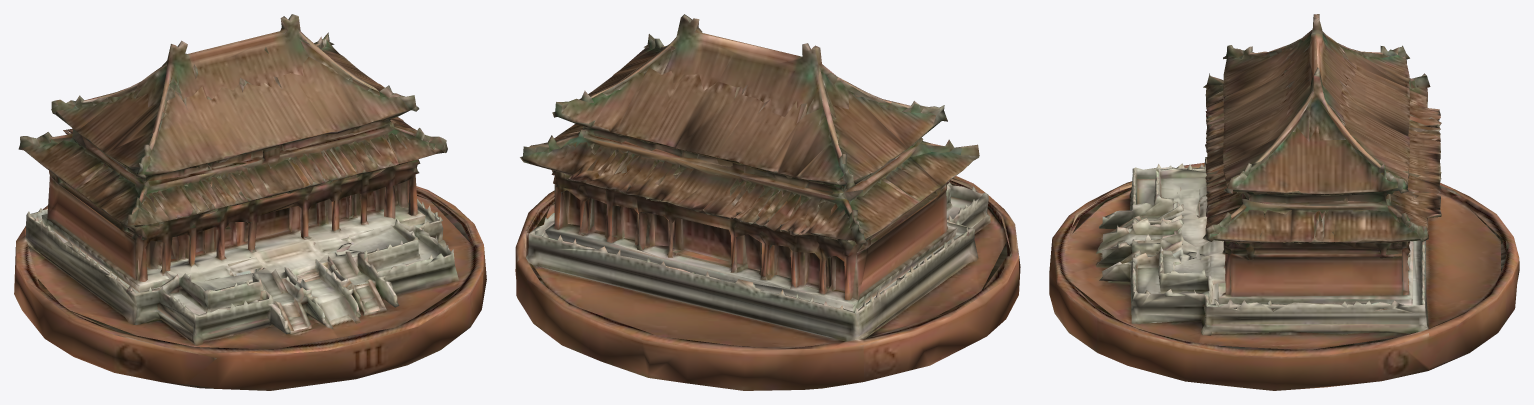
The model's file is forbidden_city_bronze.glb.
3 views of the same model, side by side, from view 1: azimuth 30°, elevation 25°; view 2: azimuth 150°, elevation 25°; view 3: azimuth 270°, elevation 25° (orthographic). The views are drawn at different scales.
Parts seen in each view (by area): view 1: Mesh_0; view 2: Mesh_0; view 3: Mesh_0.
Part boxes in pixels (<box>): Mesh_0: <box>14,14,486,390</box>; Mesh_0: <box>515,14,1020,390</box>; Mesh_0: <box>1049,14,1519,390</box>.
Size of the model in its own units: 1.91 by 1.12 by 1.9.
Materials: 1 (1 with a texture image).
